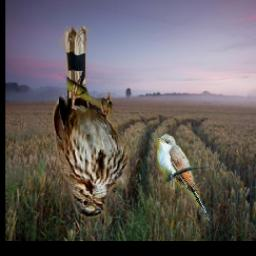Cuckoo: (157, 133, 210, 222)
Sparrow: (54, 27, 131, 219)
